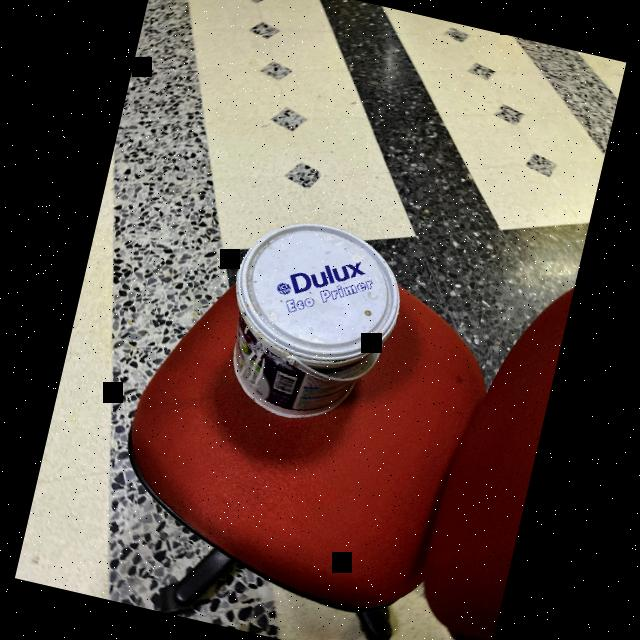paint_bucket: (202, 203, 418, 445)
